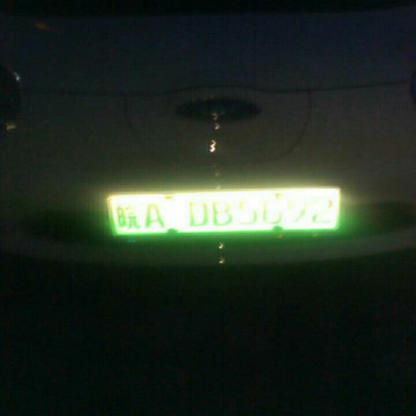lp: (109, 188, 339, 233)
